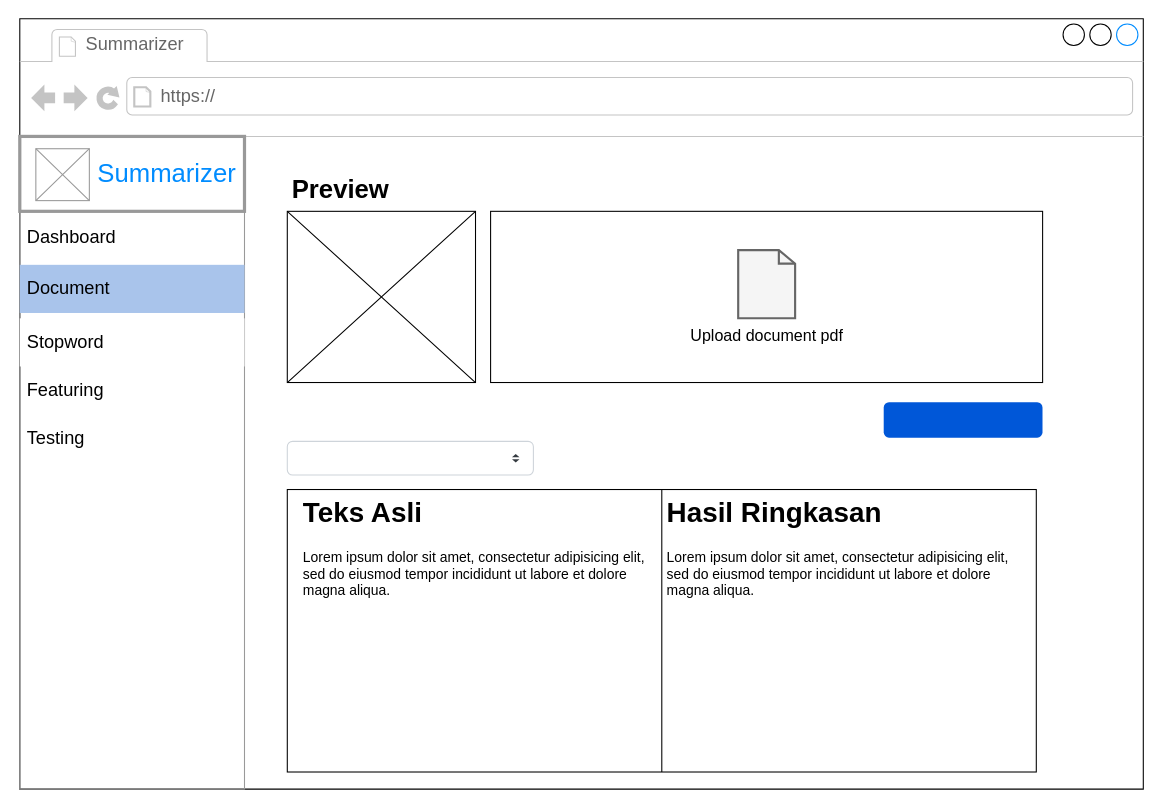
Image size: 1162x808. Some labels were removed from this diagram. The shapes that lost their labels are listed below. From the top down, each one's centre as x and y in pixels, then its label:
At point (962, 419): "Upload and Summarize".
At point (409, 457): "Tingkat Kompresi".
